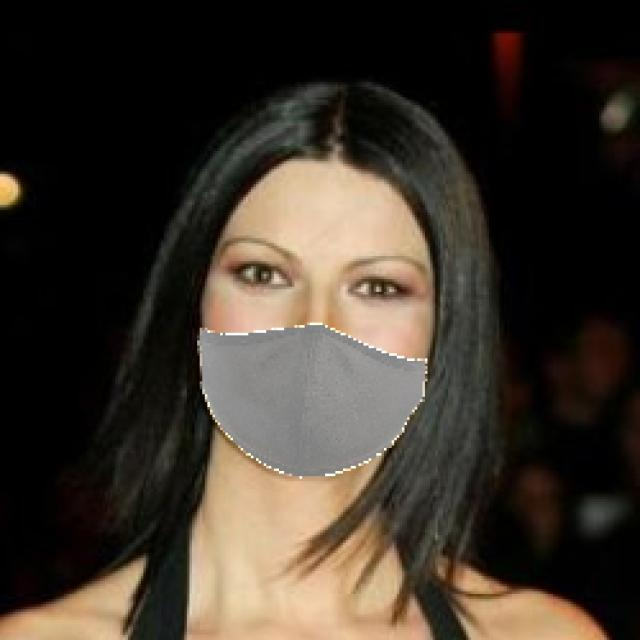mask: (192, 301, 447, 504)
